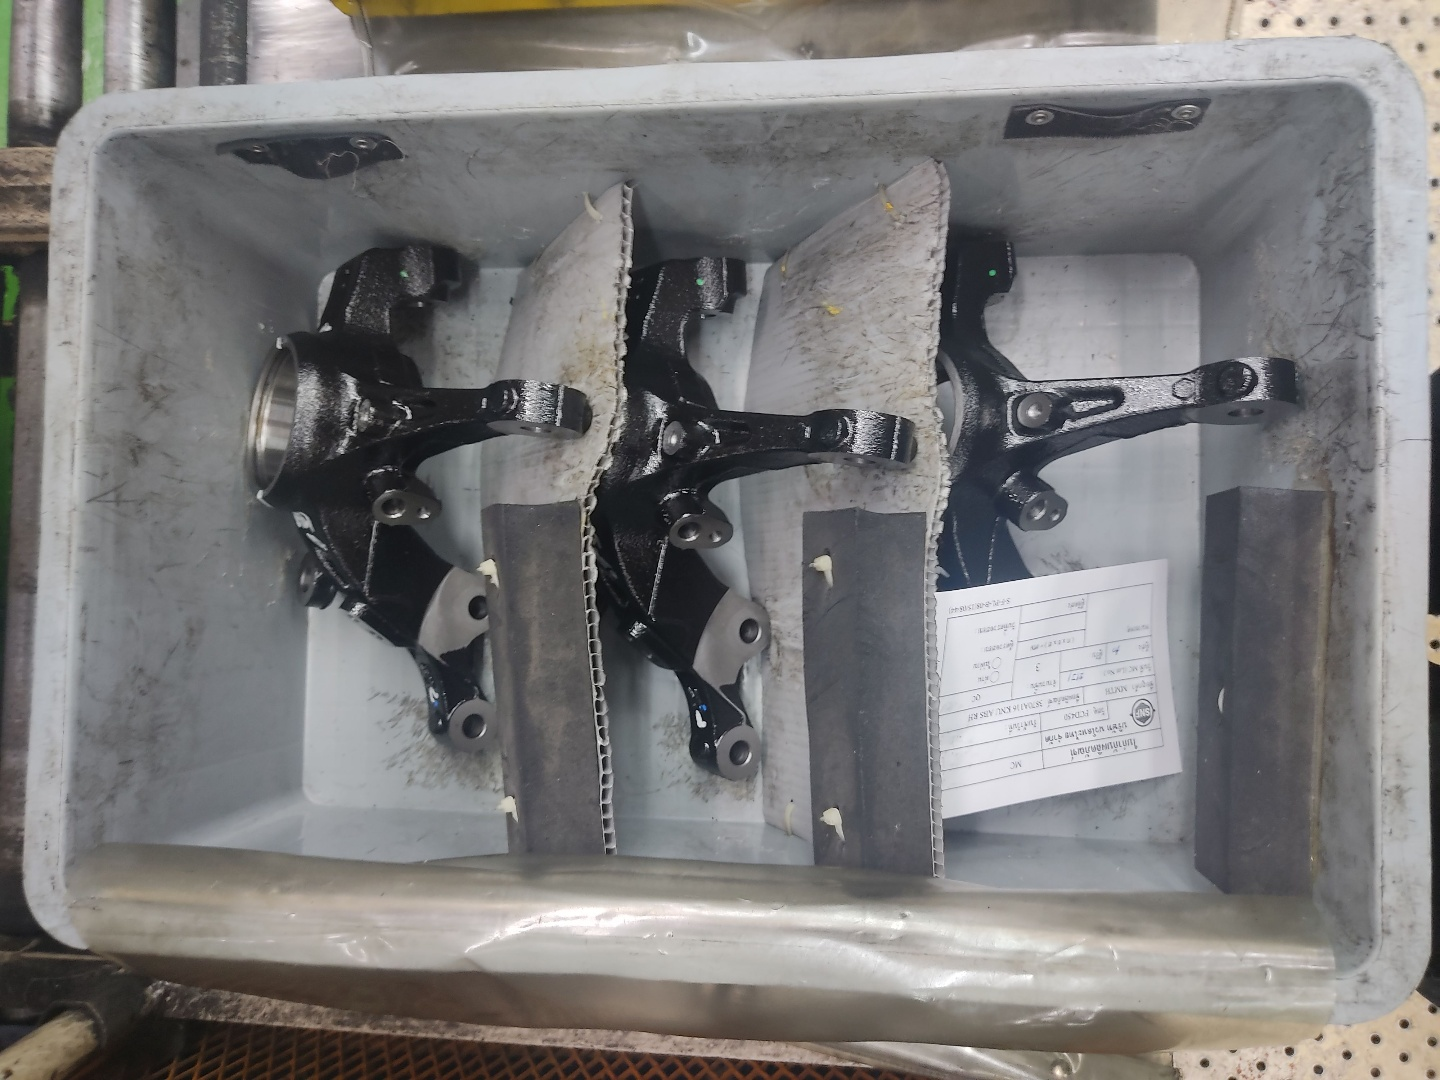abs-rh: (921, 221, 1307, 761), (240, 233, 596, 761), (601, 235, 918, 781)
